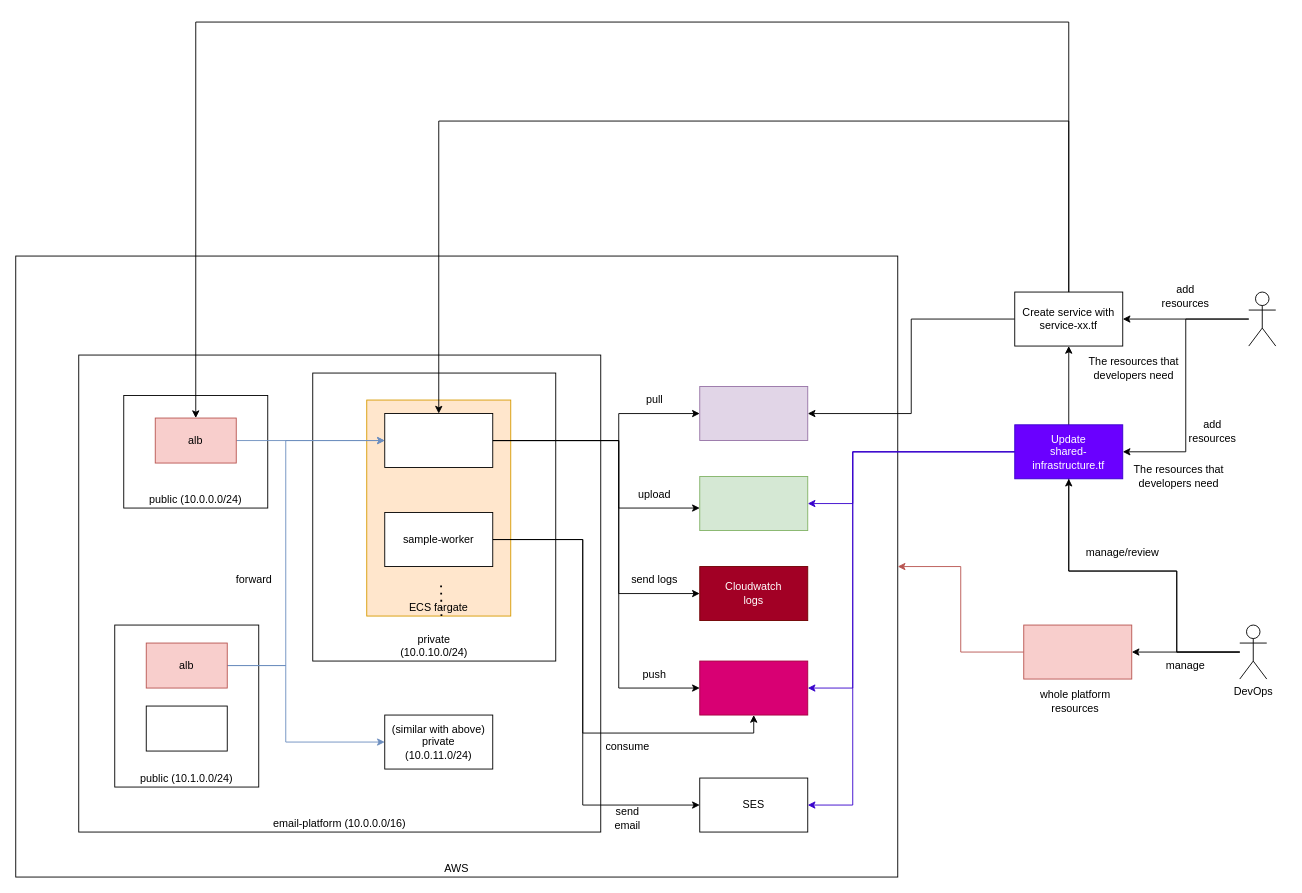
The diagram is 1302 pixels wide and 893 high, and some of its shapes have lost their labels. The centre of each missing label's shape, as x and y in pixels:
"Developer" belongs at (1262,318).
"ECR" belongs at (753,413).
"nat gateway (EIP attached)" belongs at (186,728).
"S3" belongs at (753,503).
"sample-api" belongs at (438,440).
"SQS" belongs at (753,687).
"terraform/" belongs at (1077,651).
